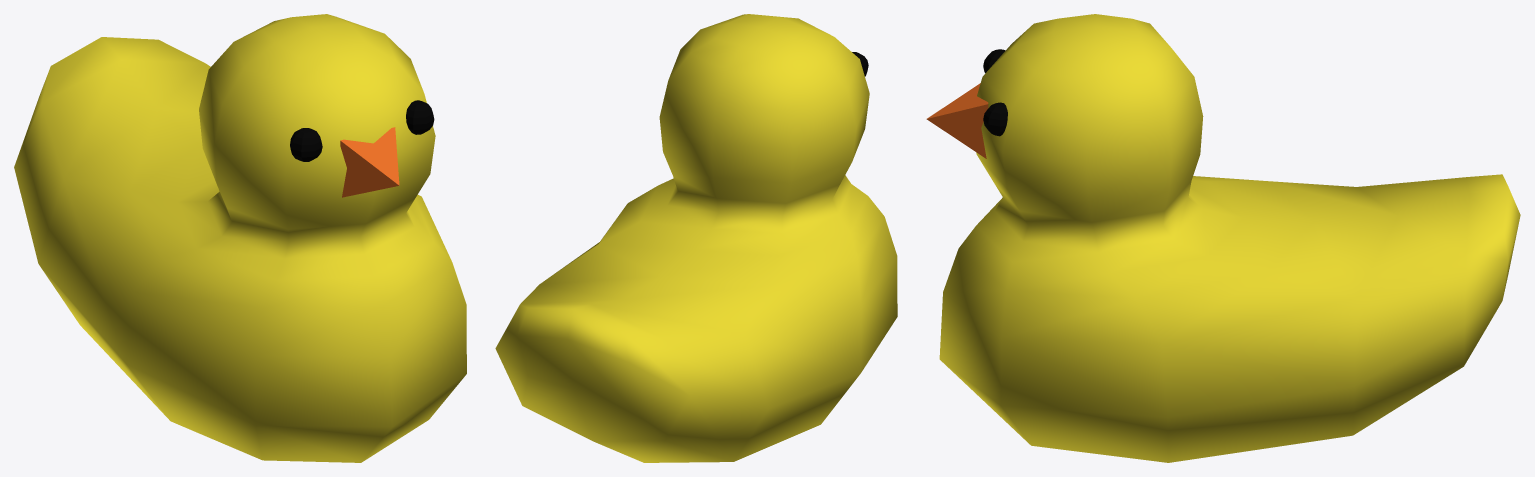
File: duckTest.glb
3 views of the same model, side by side, from view 1: azimuth 30°, elevation 25°; view 2: azimuth 150°, elevation 25°; view 3: azimuth 270°, elevation 25° (orthographic). The views are drawn at different scales.
Parts seen in each view (by area): view 1: Cube, Cube.001, Sphere; view 2: Cube; view 3: Cube, Cube.001, Sphere.
Boxes of the visible parts, left/top/right/bottom form: Cube: left=14, top=14, right=466, bottom=462; Cube.001: left=340, top=127, right=399, bottom=197; Sphere: left=290, top=100, right=434, bottom=161; Cube: left=495, top=14, right=897, bottom=462; Cube: left=939, top=14, right=1520, bottom=462; Cube.001: left=926, top=83, right=988, bottom=158; Sphere: left=983, top=49, right=1007, bottom=136.
Bounding box in the file's own units: 1.8 × 2.41 × 3.16.
